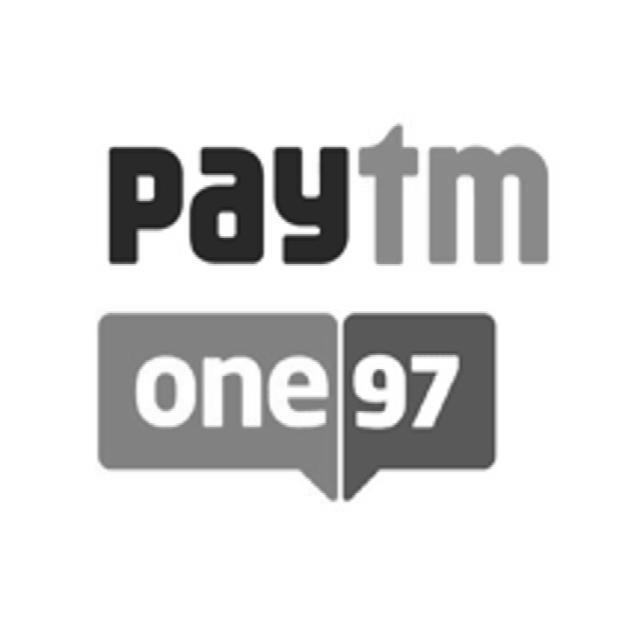fully_visible: (95, 116, 563, 284)
